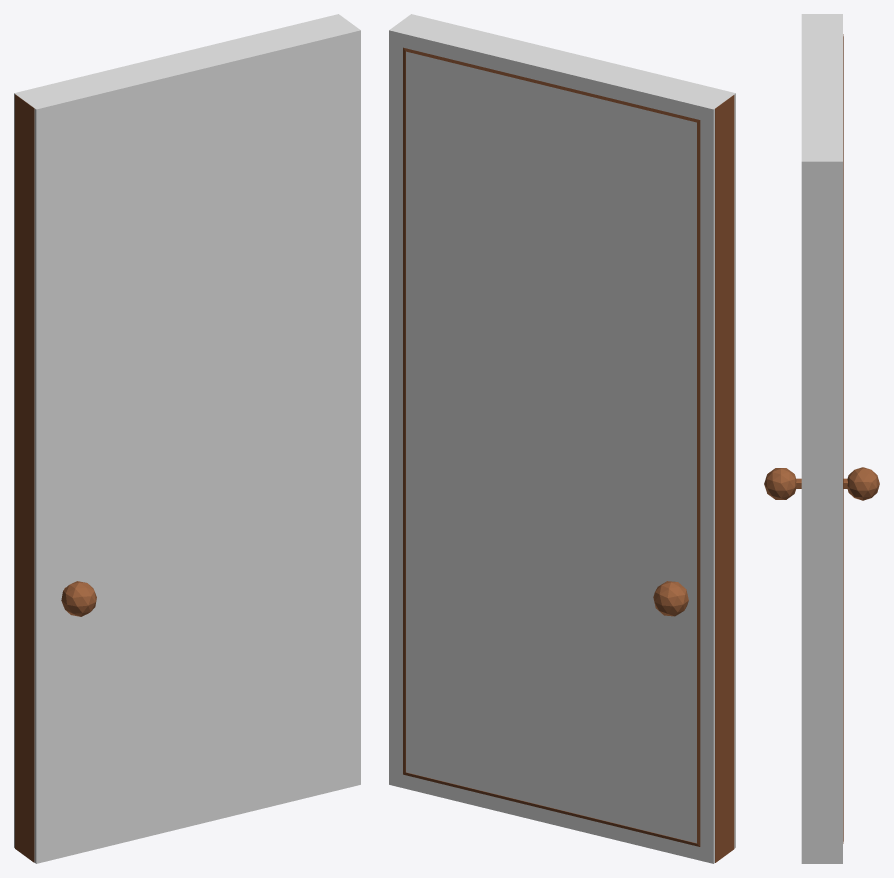
File: door-a.glb
3 views of the same model, side by side, from view 1: azimuth 30°, elevation 25°; view 2: azimuth 150°, elevation 25°; view 3: azimuth 270°, elevation 25° (orthographic). The views are drawn at different scales.
Visible parts, largest first — view 1: Door A_col, Door A; view 2: Door A_col, Door A; view 3: Door A_col, Door A.
Part boxes in pixels (x1,y1,x2,y2): Door A_col: [14, 14, 360, 863]; Door A: [15, 94, 96, 862]; Door A_col: [389, 14, 735, 863]; Door A: [403, 47, 734, 862]; Door A_col: [801, 14, 842, 863]; Door A: [764, 34, 879, 843].
Size of the model in its own units: 4.62 by 10.26 by 1.53.
